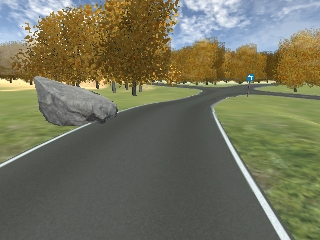left: (245, 73, 254, 82)
